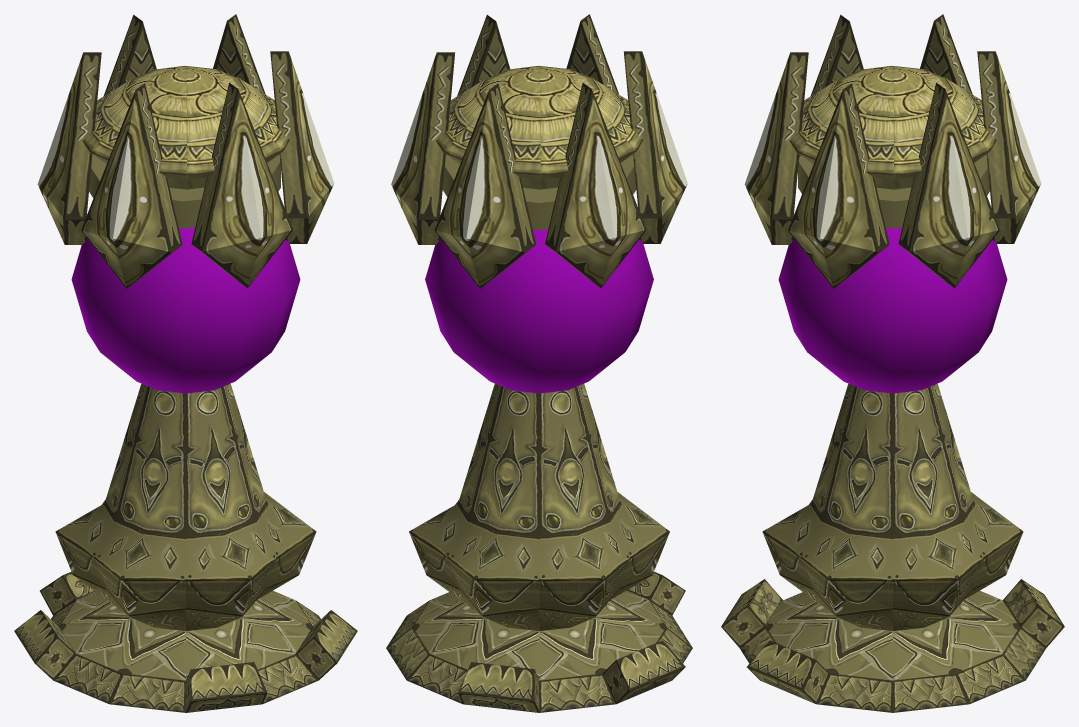
The model's file is e_tower.FBX.
3 views of the same model, side by side, from view 1: azimuth 30°, elevation 25°; view 2: azimuth 150°, elevation 25°; view 3: azimuth 270°, elevation 25° (orthographic).
Visible parts, largest first — view 1: e_tower; view 2: e_tower; view 3: e_tower.
Boxes of the visible parts, x1,y1,x2,y2 form: e_tower: [14, 14, 357, 712]; e_tower: [386, 14, 692, 712]; e_tower: [721, 14, 1064, 712].
Bounding box in the file's own units: 84.98 × 172 × 89.82.
